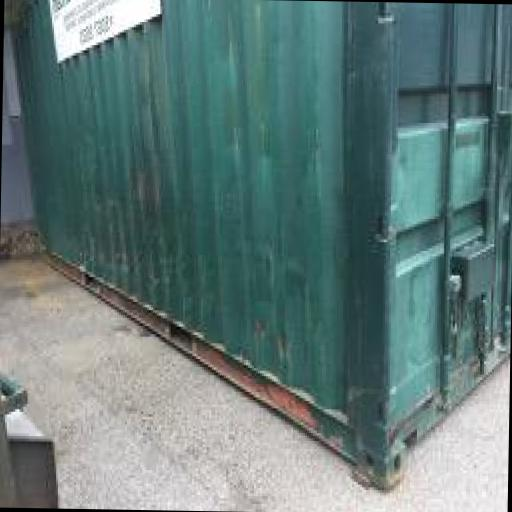segmentation: (48, 261, 358, 455)
